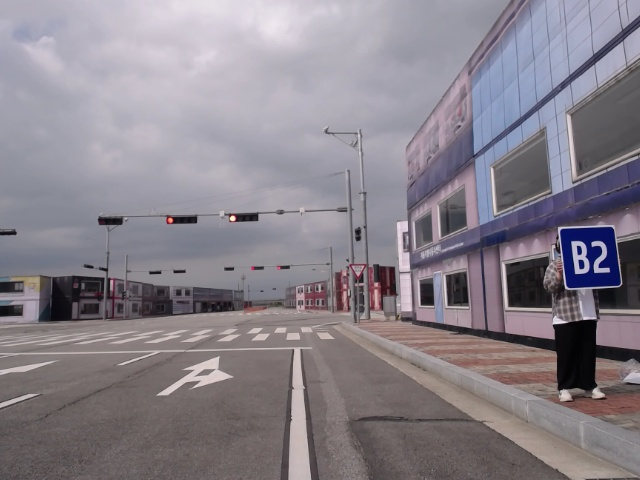delivery_b2: (558, 225, 625, 291)
red_4: (166, 214, 197, 226), (227, 212, 260, 222), (275, 264, 292, 271), (251, 265, 267, 272)
